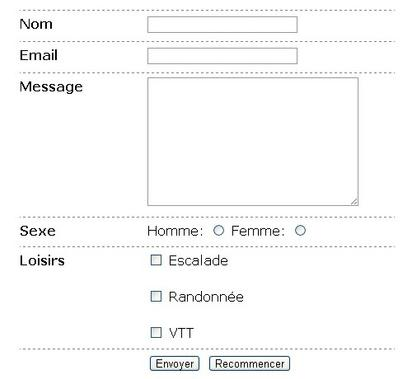button: (208, 355, 291, 372), (149, 355, 200, 372)
checkbox: (150, 324, 164, 340), (150, 251, 163, 268), (150, 289, 163, 304)
checkbox_with_label: (148, 288, 246, 305), (148, 249, 227, 270), (147, 323, 193, 341)
field: (144, 76, 359, 208), (145, 15, 299, 34), (145, 46, 298, 65)
field_with_label: (18, 74, 361, 210), (20, 13, 300, 35), (20, 45, 299, 66)
radio: (291, 222, 306, 239), (211, 223, 224, 239)
radio_with_label: (232, 220, 308, 240), (147, 222, 225, 241)
